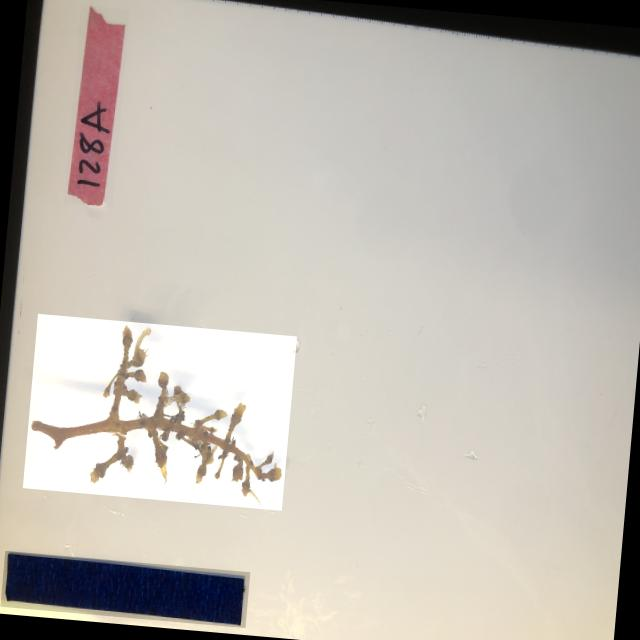index: (64, 3, 130, 206)
measure_label: (1, 549, 250, 626)
rachis_cluster: (22, 312, 296, 510)
